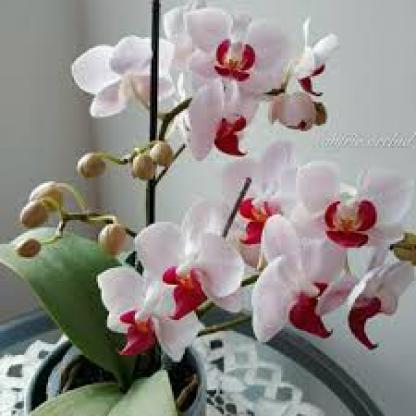ANGGREK: (75, 21, 408, 371)
